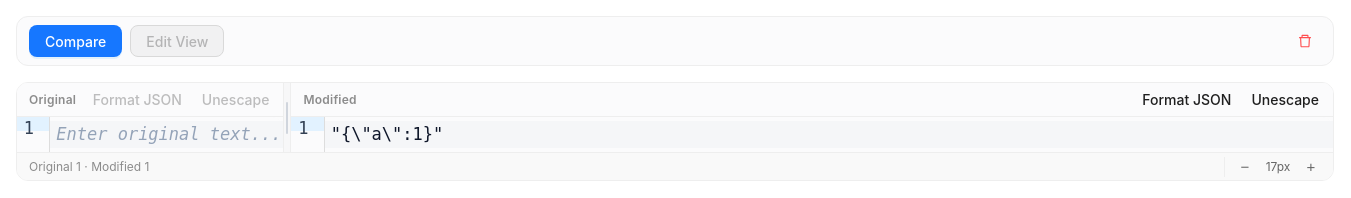
Test: TextDiff pane JSON transforms › text-diff: Unescape unwraps escaped json in the pane
Click the 2nd button "Unescape" at (1285, 100), box [1243,88,1327,112]
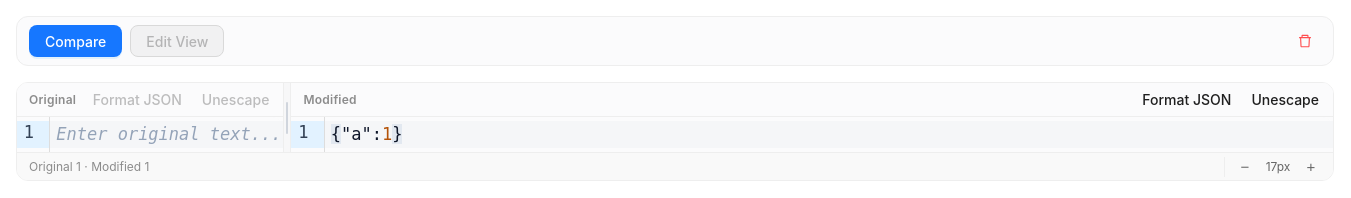
Result: the text box labelled "{\"a\":1}" reads "{\"a\":1}" at [325,121,1333,148]
